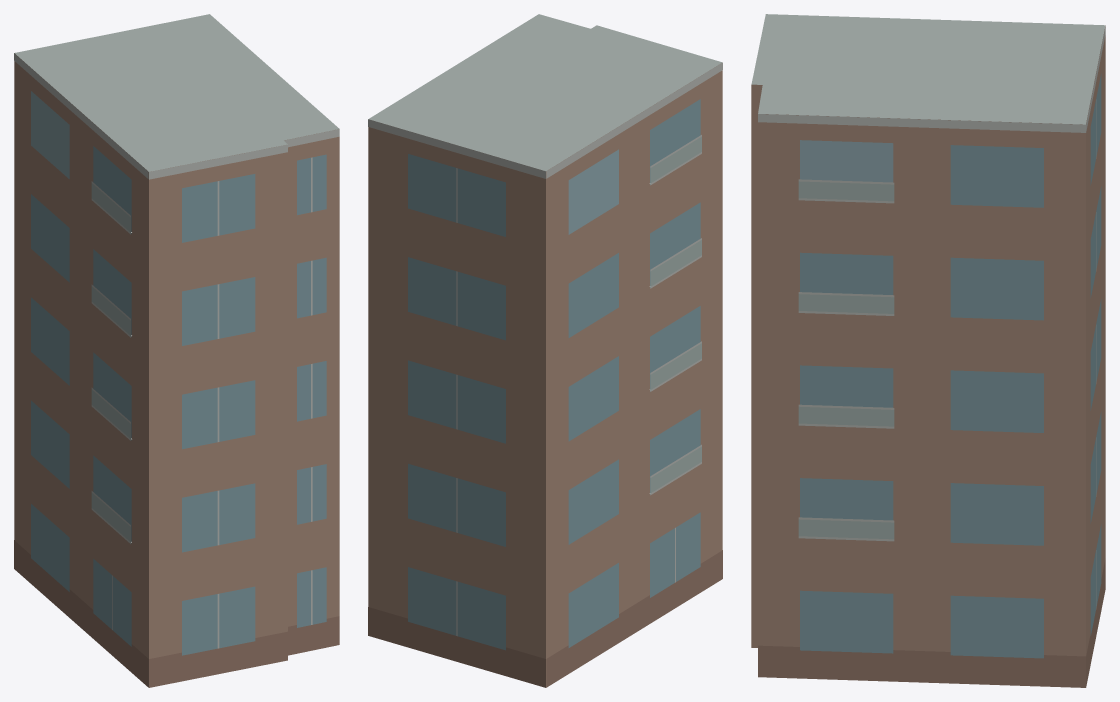
File: survey-upis-32984562.glb
3 views of the same model, side by side, from view 1: azimuth 30°, elevation 25°; view 2: azimuth 150°, elevation 25°; view 3: azimuth 270°, elevation 25° (orthographic). The views are drawn at different scales.
Visible parts, largest first — view 1: survey-upis-32984562.tmp; view 2: survey-upis-32984562.tmp; view 3: survey-upis-32984562.tmp.
Part boxes in pixels (x1,y1,x2,y2): survey-upis-32984562.tmp: (14,14,339,687); survey-upis-32984562.tmp: (368,14,722,687); survey-upis-32984562.tmp: (751,14,1105,687).
Size of the model in its own units: 6.87 by 16.3 by 9.3.
